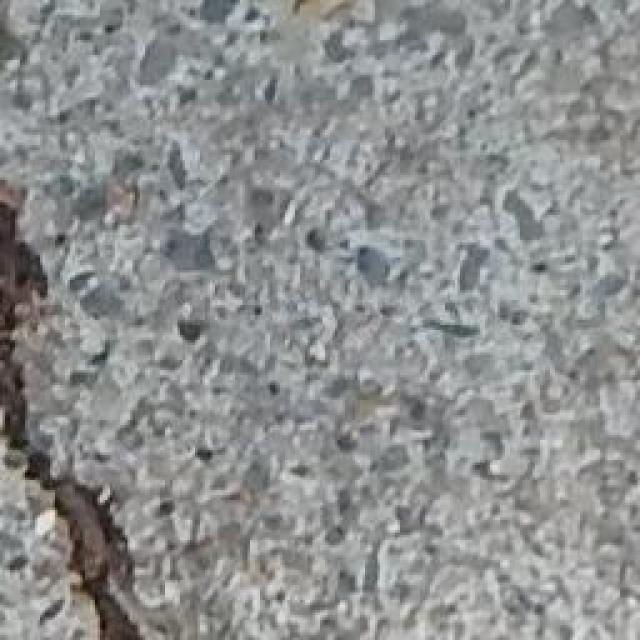concrete-crack: (0, 189, 152, 640)
